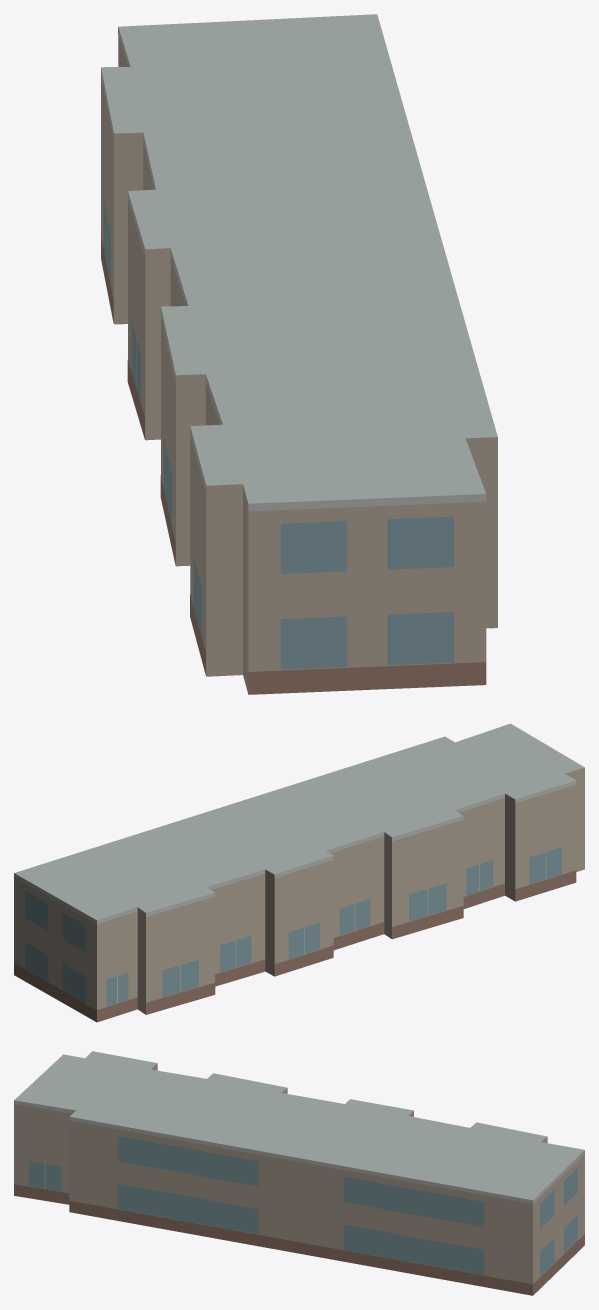
Rendered from survey-upis-32991708.glb.
3 renders of one model, top to bottom at view 1: azimuth 30°, elevation 25°; view 2: azimuth 150°, elevation 25°; view 3: azimuth 270°, elevation 25°, orthographic. The views are drawn at different scales.
Parts seen in each view (by area): view 1: survey-upis-32991708.tmp; view 2: survey-upis-32991708.tmp; view 3: survey-upis-32991708.tmp.
Part boxes in pixels (x1,y1,x2,y2): survey-upis-32991708.tmp: (101,14,497,694); survey-upis-32991708.tmp: (14,723,584,1022); survey-upis-32991708.tmp: (14,1051,584,1295).
Size of the model in its own units: 20.45 by 6.1 by 33.07.
